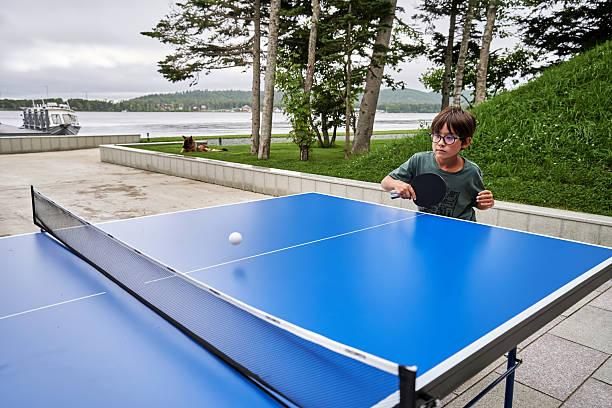ball_pingpong: (227, 229, 243, 246)
